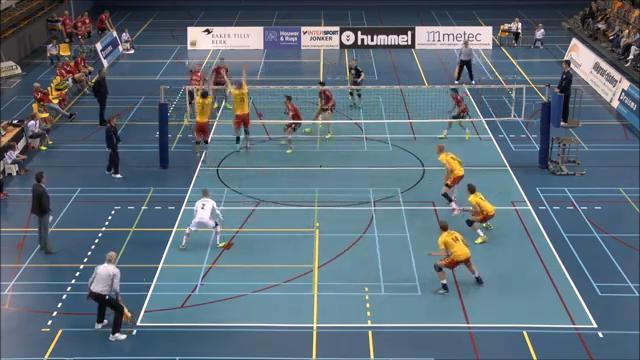Attack: (183, 53, 206, 106)
Block: (220, 63, 253, 153), (190, 75, 213, 164)
Player: (429, 221, 483, 294), (180, 189, 226, 248), (436, 144, 463, 214), (466, 183, 494, 243), (439, 88, 469, 139), (313, 81, 335, 138), (283, 95, 301, 152), (211, 58, 230, 109), (349, 59, 364, 106)
ball: (188, 39, 198, 48)
